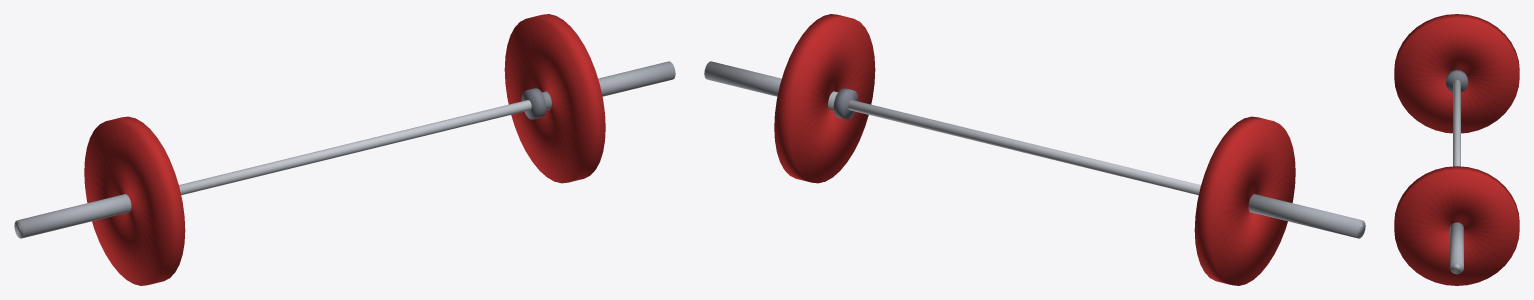
The model's file is barbell.glb.
The picture shows the model from 3 angles, left to right: view 1: azimuth 30°, elevation 25°; view 2: azimuth 150°, elevation 25°; view 3: azimuth 270°, elevation 25°; orthographic projection. The views are drawn at different scales.
Visible parts, largest first — view 1: barbell; view 2: barbell; view 3: barbell.
Boxes of the visible parts, left/top/right/bottom form: barbell: left=14, top=14, right=675, bottom=285; barbell: left=704, top=14, right=1365, bottom=285; barbell: left=1394, top=14, right=1519, bottom=285.
Bounding box in the file's own units: 2 × 0.45 × 0.45.
